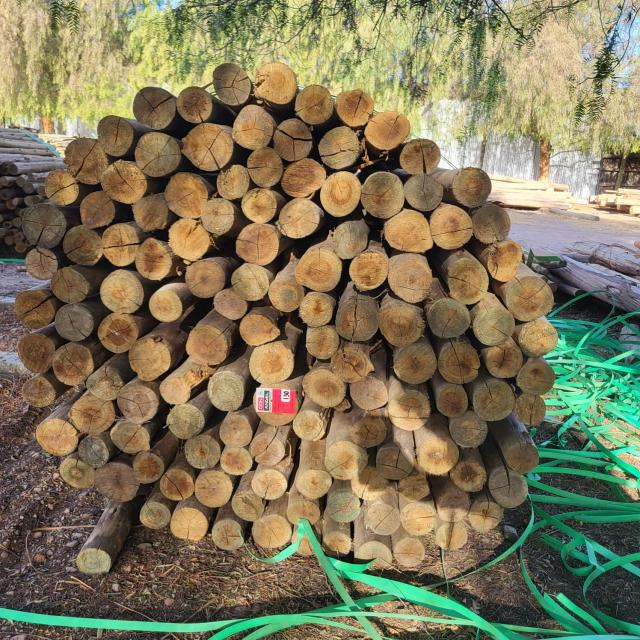package: (22, 63, 559, 580)
